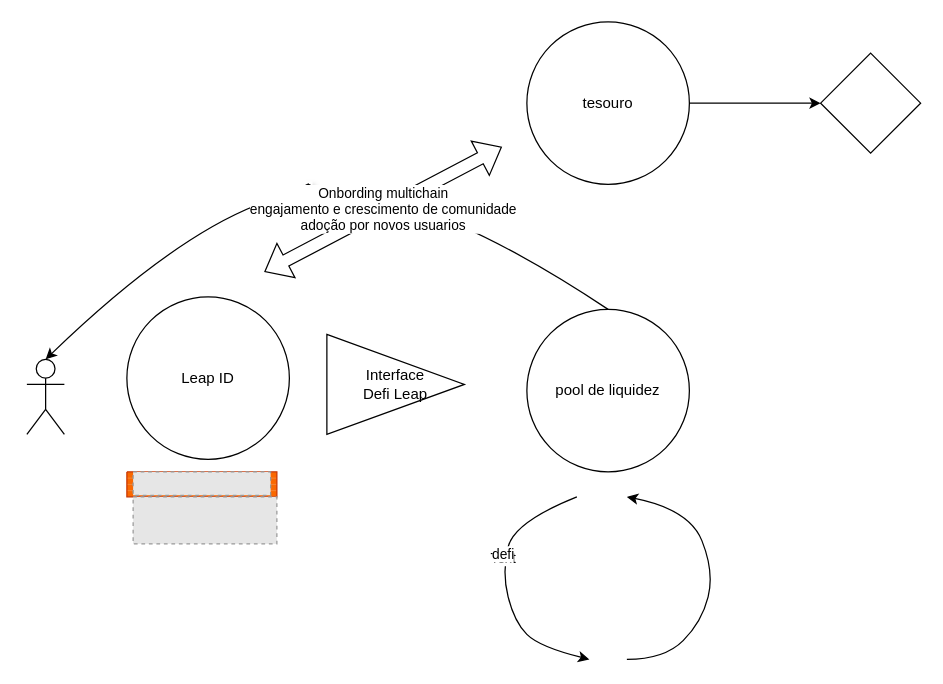
The diagram is 943 pixels wide and 684 high, and some of its shapes have lost their labels. Grey dashed boxes stand in for pictures. Here are the shapes that lost their labels. From the top down, the box of each, then its label:
(819, 52, 921, 153): dao
(26, 358, 64, 434): usuario
